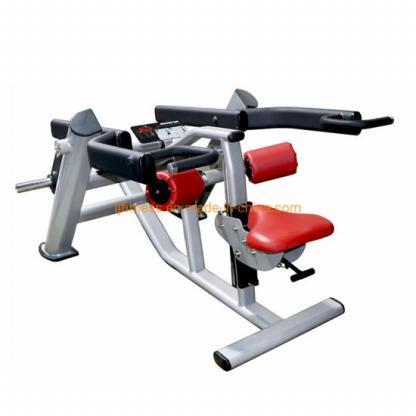seated dip machine: (18, 87, 396, 372)
